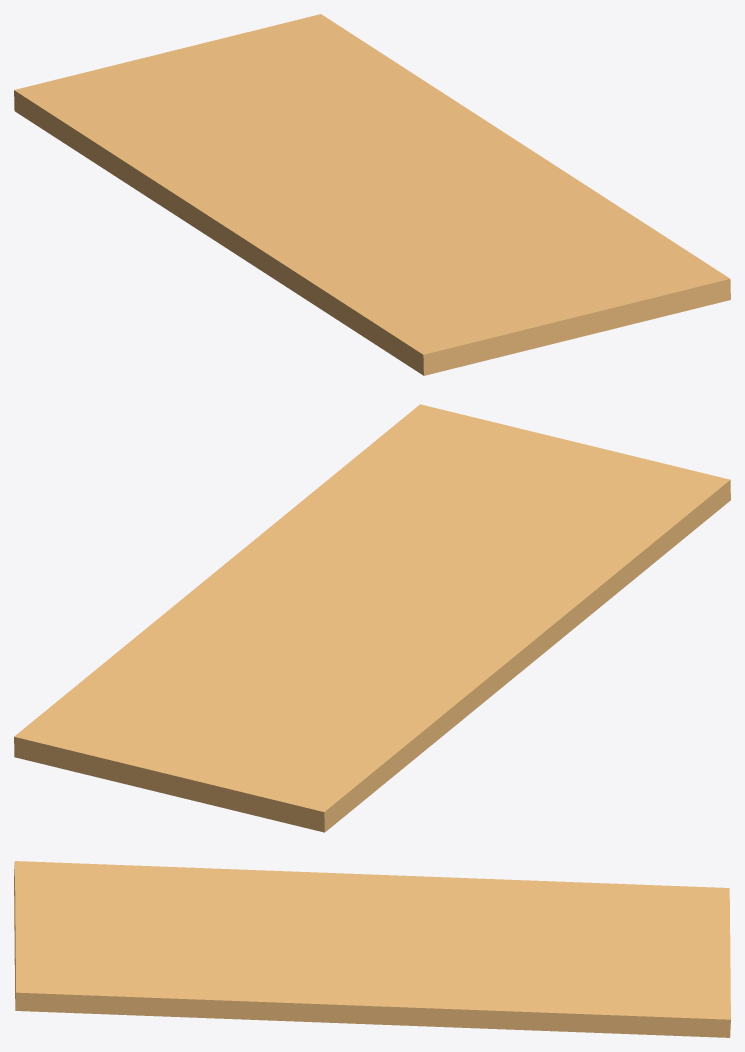
The picture shows the model from 3 angles, top to bottom: view 1: azimuth 30°, elevation 25°; view 2: azimuth 150°, elevation 25°; view 3: azimuth 270°, elevation 25°; orthographic projection. The views are drawn at different scales.
Size of the model in its own units: 0.3415 by 0.056 by 0.7765.
